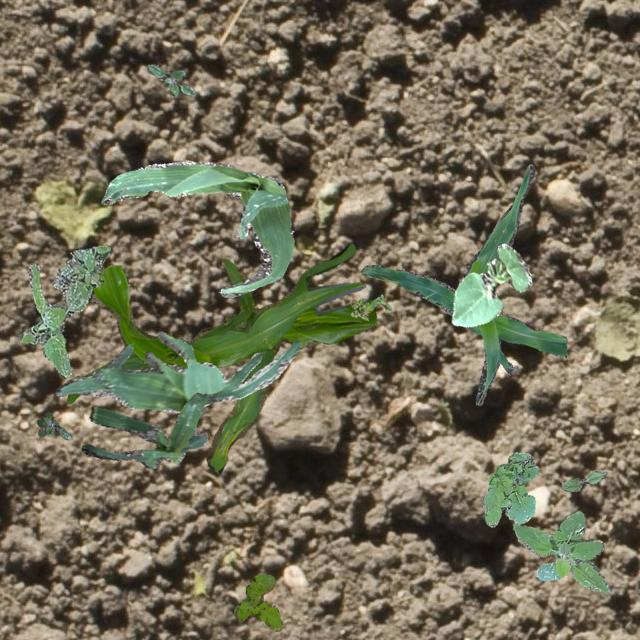crop: (66, 242, 376, 472), (360, 163, 566, 404), (100, 160, 294, 296), (53, 331, 300, 412), (80, 392, 222, 468), (450, 242, 530, 326), (560, 470, 606, 490)
weed: (16, 245, 110, 376), (512, 510, 610, 592), (480, 451, 538, 526), (232, 572, 282, 630), (146, 64, 194, 95), (350, 294, 390, 318), (36, 411, 70, 438)
